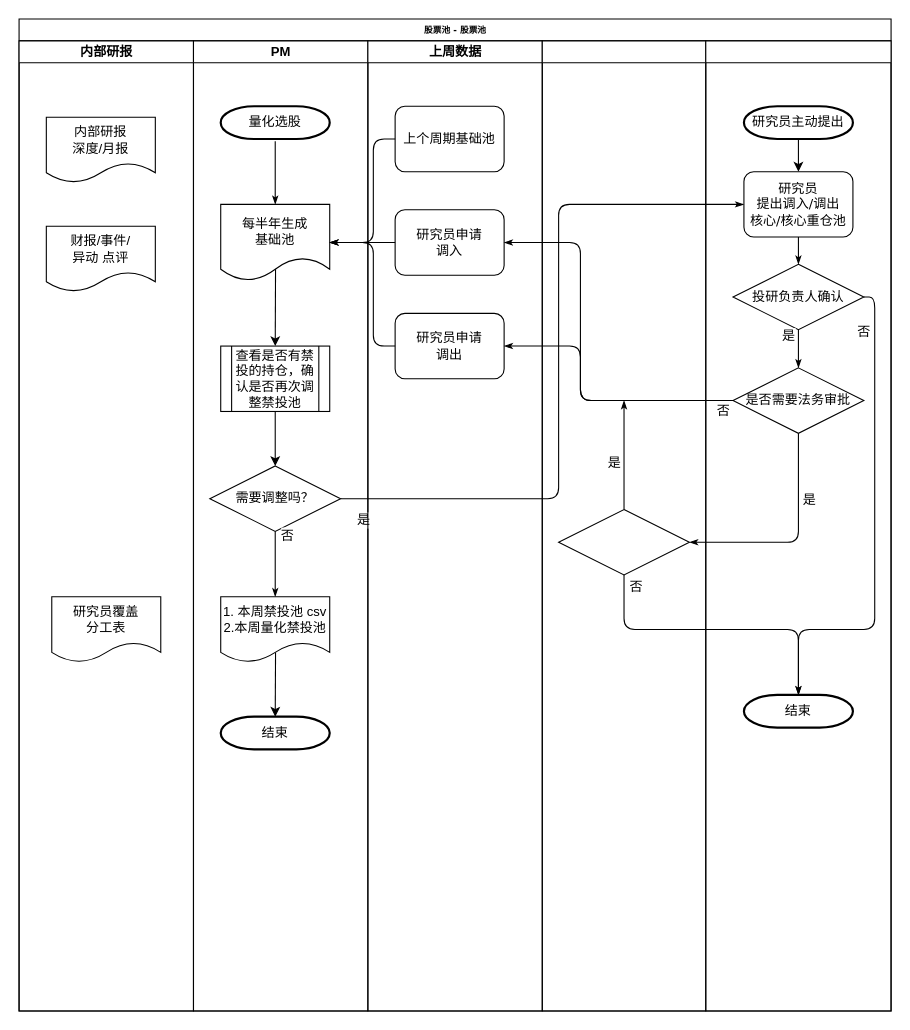
The diagram is 910 pixels wide and 1030 high, and some of its shapes have lost their labels. The shapes that lost their labels are listed below. From the top down, each one's box as (x1, y1, x2, y2) in pixels, then its label:
(541, 40, 706, 1011): GR
(558, 508, 689, 575): 法务确认
(705, 40, 891, 1011): EQ / OV
